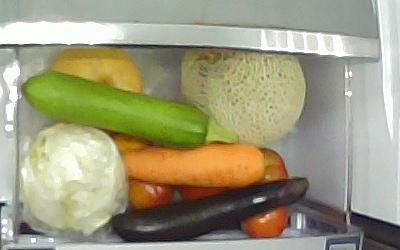cabbage: (17, 120, 126, 237)
carrot: (119, 142, 265, 187)
eggplant: (109, 175, 310, 242)
melon: (179, 47, 307, 144)
pear: (48, 46, 143, 93)
prune: (239, 205, 286, 238), (127, 178, 173, 209), (254, 146, 288, 184)
zucchini: (19, 68, 237, 149)
